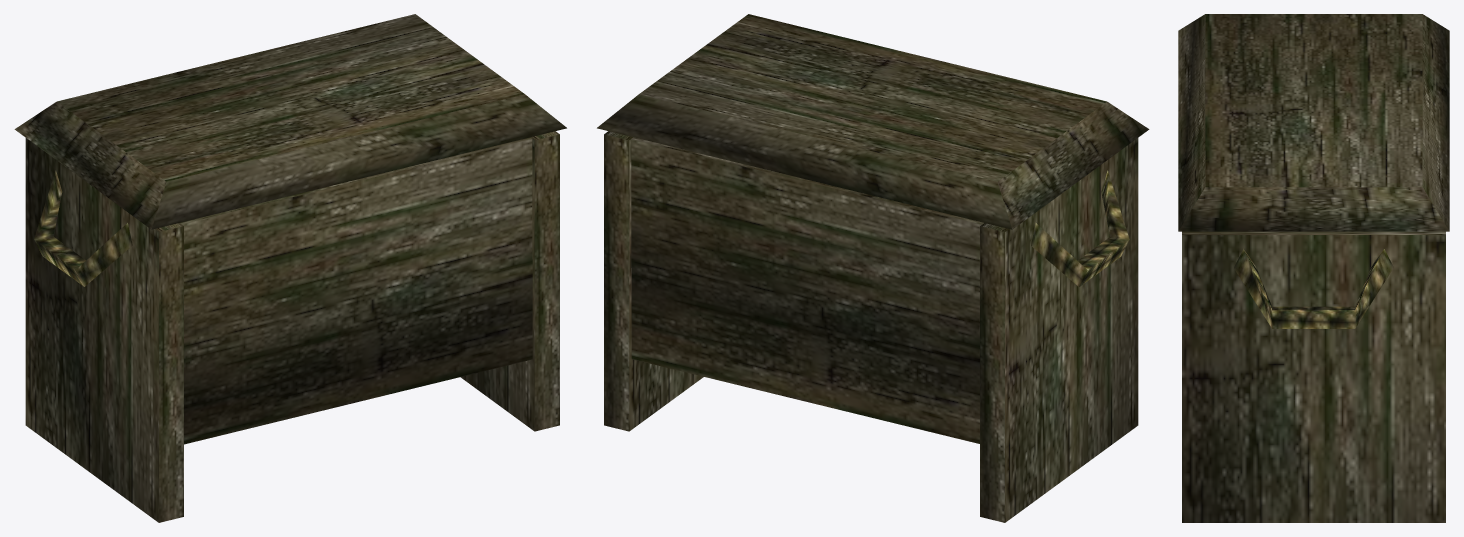
File: DT_CRATE_V1.glb
The picture shows the model from 3 angles, left to right: view 1: azimuth 30°, elevation 25°; view 2: azimuth 150°, elevation 25°; view 3: azimuth 270°, elevation 25°; orthographic projection.
Visible parts, largest first — view 1: Mesh; view 2: Mesh; view 3: Mesh.
Part boxes in pixels (bbox=[...]): Mesh: bbox=[14, 14, 566, 522]; Mesh: bbox=[597, 14, 1149, 522]; Mesh: bbox=[1178, 14, 1449, 522].
Size of the model in its own units: 0.7958 by 0.5259 by 0.3983.
Materials: 2 (2 with a texture image).
